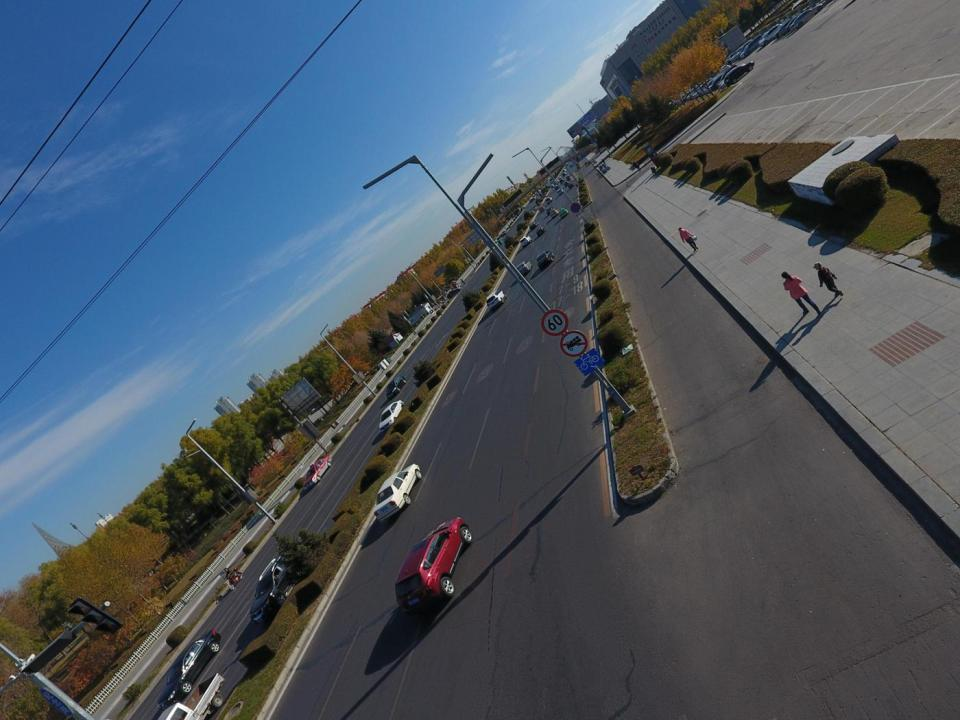car: (396, 516, 471, 615), (156, 630, 222, 710), (251, 546, 310, 626), (374, 462, 422, 523), (304, 455, 332, 489), (790, 3, 823, 30), (379, 399, 405, 430), (724, 61, 754, 87), (720, 62, 746, 88), (685, 77, 708, 100), (715, 65, 737, 89), (709, 68, 731, 92), (693, 76, 715, 100), (690, 75, 712, 99), (706, 71, 728, 94), (702, 72, 724, 95), (696, 74, 718, 97), (760, 24, 784, 45), (677, 85, 699, 106), (680, 84, 702, 104), (388, 376, 408, 397), (486, 290, 506, 311), (785, 12, 807, 31), (734, 39, 754, 59), (780, 16, 801, 35), (536, 250, 555, 270), (774, 21, 794, 40), (740, 41, 758, 58), (517, 260, 532, 278), (758, 30, 774, 46), (446, 287, 462, 299), (520, 236, 531, 249), (535, 225, 546, 237), (559, 208, 568, 219), (550, 209, 559, 219), (530, 221, 538, 230), (547, 207, 554, 216), (545, 197, 553, 204), (558, 188, 564, 195), (539, 206, 545, 212), (568, 182, 574, 188), (502, 230, 507, 236), (566, 175, 571, 180), (530, 198, 536, 202), (564, 182, 568, 187), (554, 185, 558, 190), (560, 178, 564, 183), (556, 179, 560, 184), (549, 185, 555, 188), (558, 176, 562, 180), (562, 172, 566, 176), (562, 169, 567, 172), (569, 164, 573, 167), (522, 207, 526, 209)
truck: (159, 672, 226, 720)
van: (745, 34, 764, 56)
